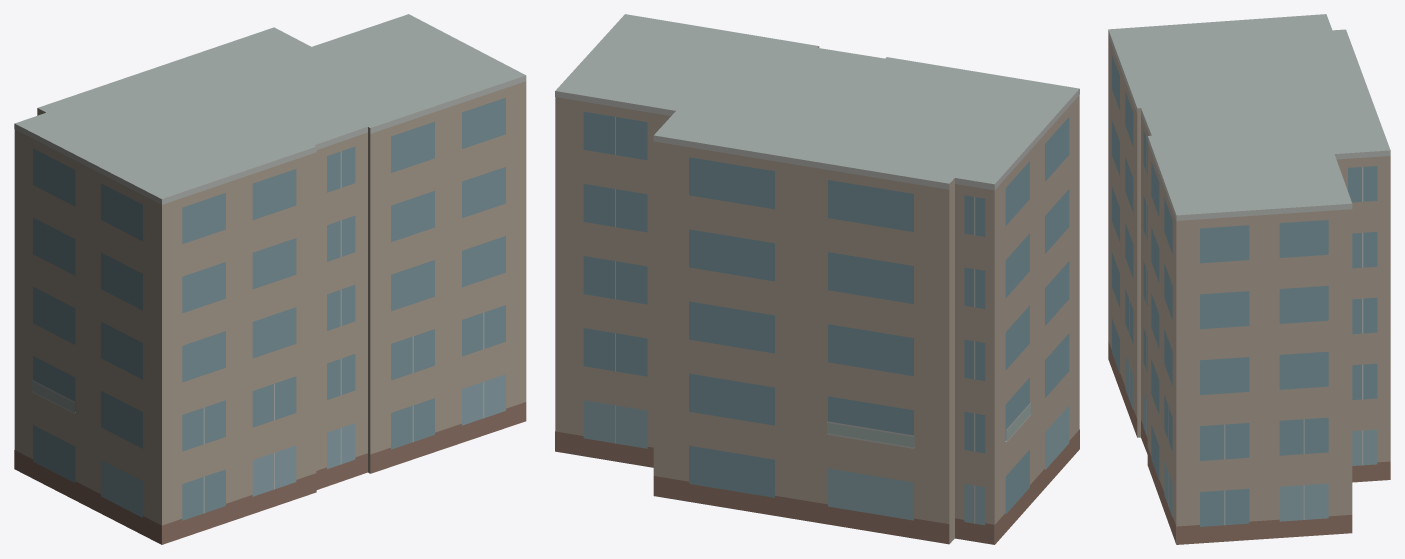
Rendered from survey-upis-32745354.glb.
3 renders of one model, left to right at view 1: azimuth 30°, elevation 25°; view 2: azimuth 150°, elevation 25°; view 3: azimuth 270°, elevation 25°, orthographic. The views are drawn at different scales.
Parts seen in each view (by area): view 1: survey-upis-32745354.tmp; view 2: survey-upis-32745354.tmp; view 3: survey-upis-32745354.tmp.
Boxes of the visible parts, left/top/right/bottom form: survey-upis-32745354.tmp: left=14, top=14, right=526, bottom=544; survey-upis-32745354.tmp: left=555, top=14, right=1079, bottom=544; survey-upis-32745354.tmp: left=1108, top=14, right=1390, bottom=544.
Bounding box in the file's own units: 19.29 × 14.7 × 11.43.
